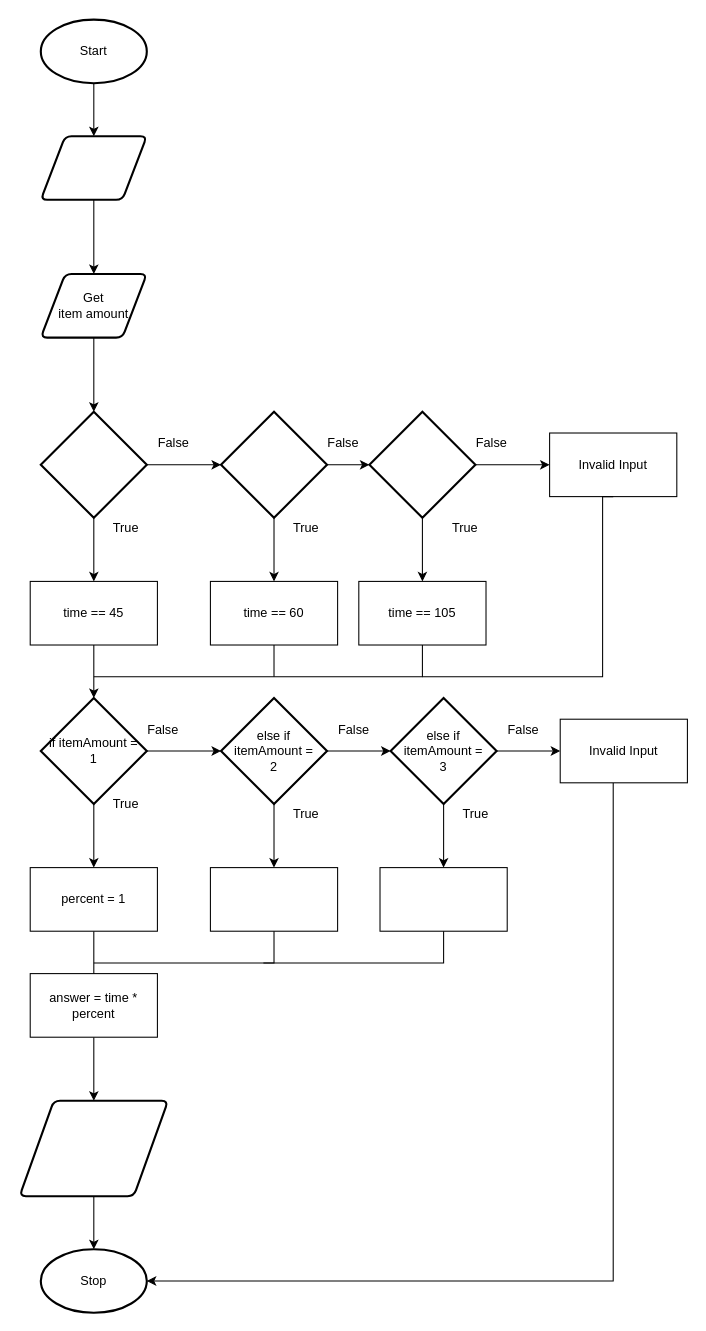
This 706x1331 diagram has some shape labels left out. The shapes that lost their labels are listed below. From the top down, each one's box as (x1, y1, x2, y2) in pixels, then its label:
(39, 135, 147, 200): Get item type
(39, 410, 147, 518): if itemType = pizza
(219, 410, 328, 518): else if itemType == sub
(368, 410, 476, 518): else if itemType == soup
(209, 867, 338, 931): percent = 1.5
(379, 867, 507, 931): percent = 2
(18, 1099, 169, 1197): console.log (`It will take ${answer} seconds to took`)
